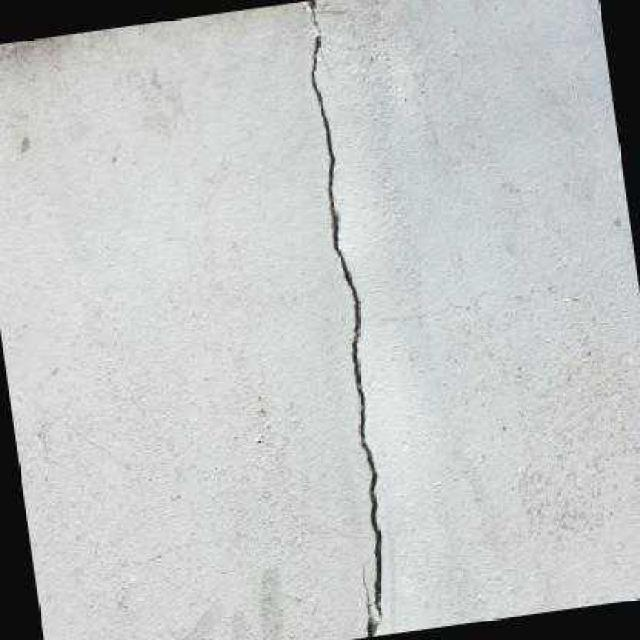D00: (307, 0, 380, 637)
